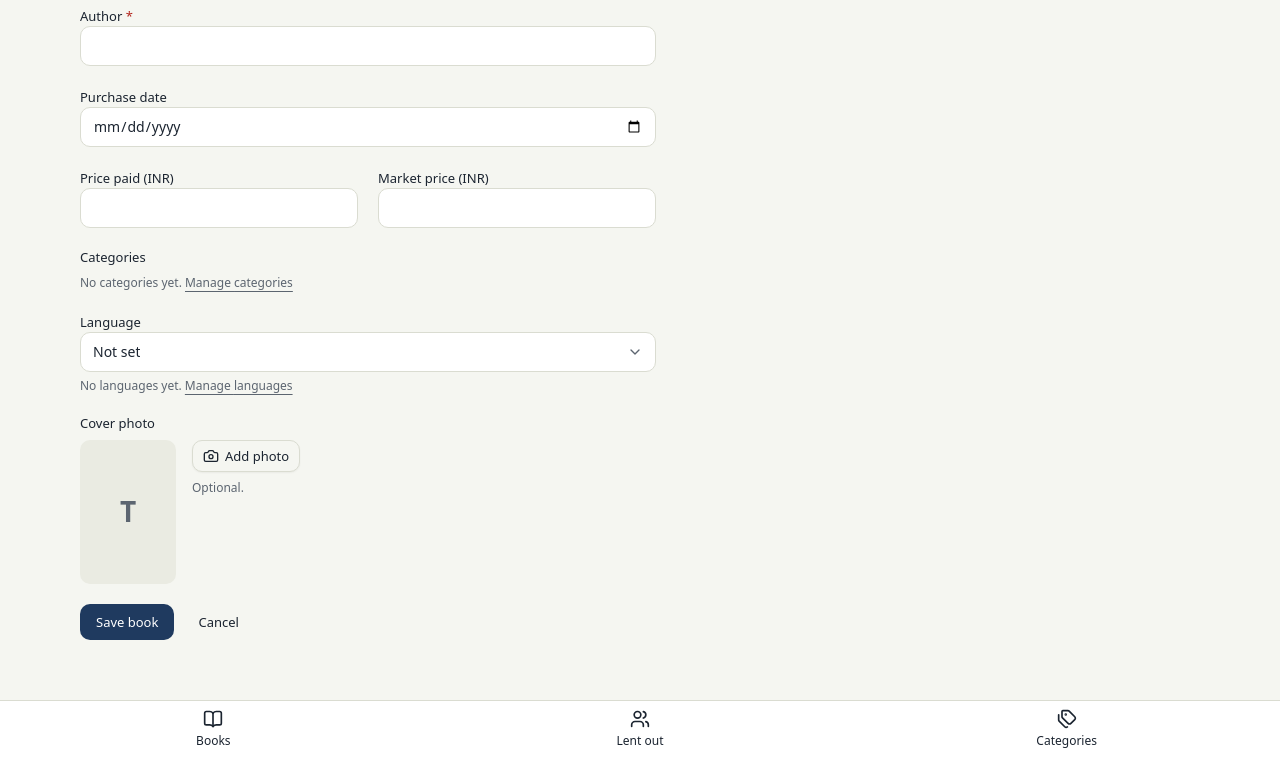
Test case: Add book form › requires title and author: shows the errors, focuses the first bad field, and sends nothing
The image size is (1280, 757).
(page scrolled)
Click the button "Save book".
click(127, 622)  # box [80,604,174,640]
(page scrolled)
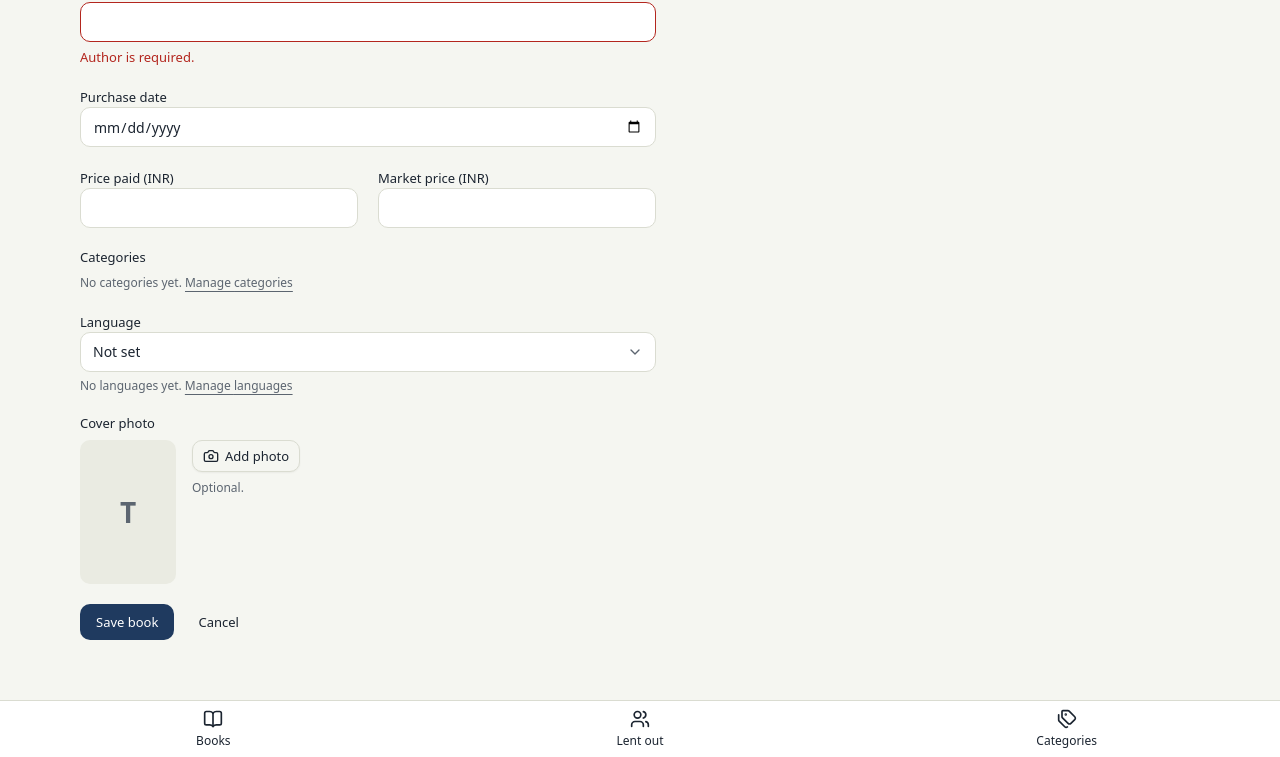
Expected: the text "Author is required." is shown, [80,48,194,66]
